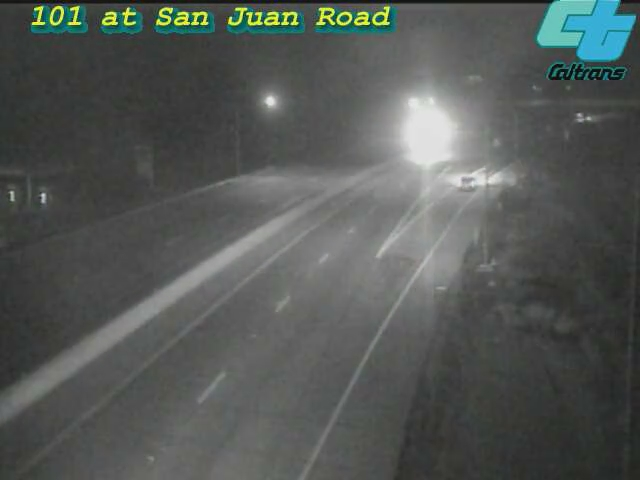vehicle: (426, 144, 506, 224), (402, 106, 452, 156), (558, 93, 608, 143), (408, 129, 458, 179)
